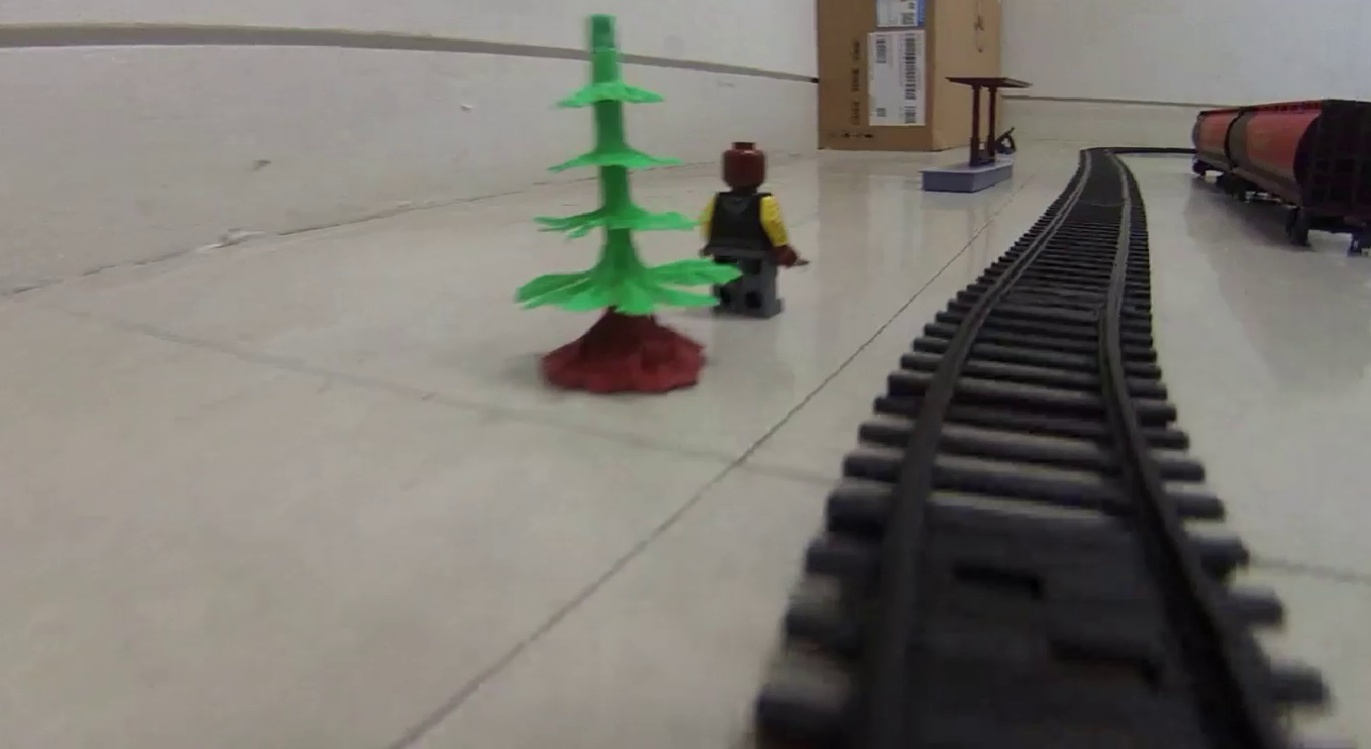people: (703, 141, 797, 319)
tree: (511, 13, 713, 393)
